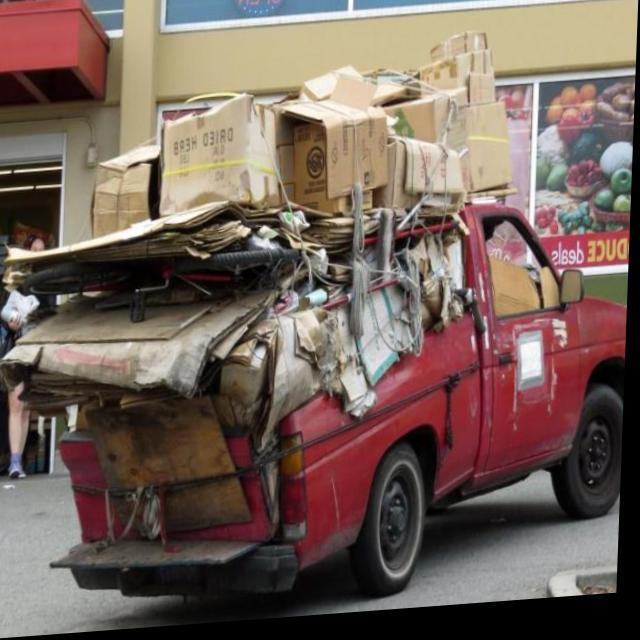uncovered: (31, 55, 608, 634)
